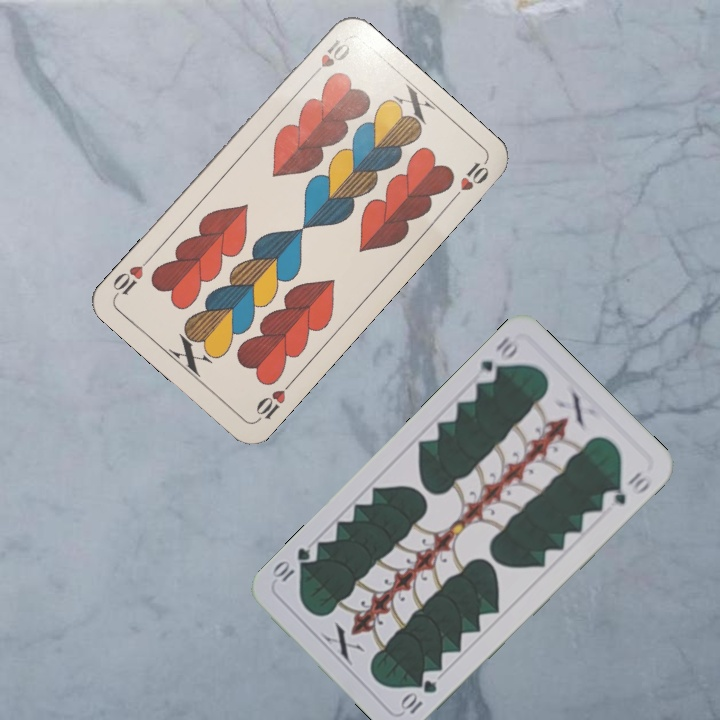G10: (471, 332, 523, 386), (397, 675, 440, 717)
H10: (305, 34, 353, 83), (251, 376, 296, 424)
